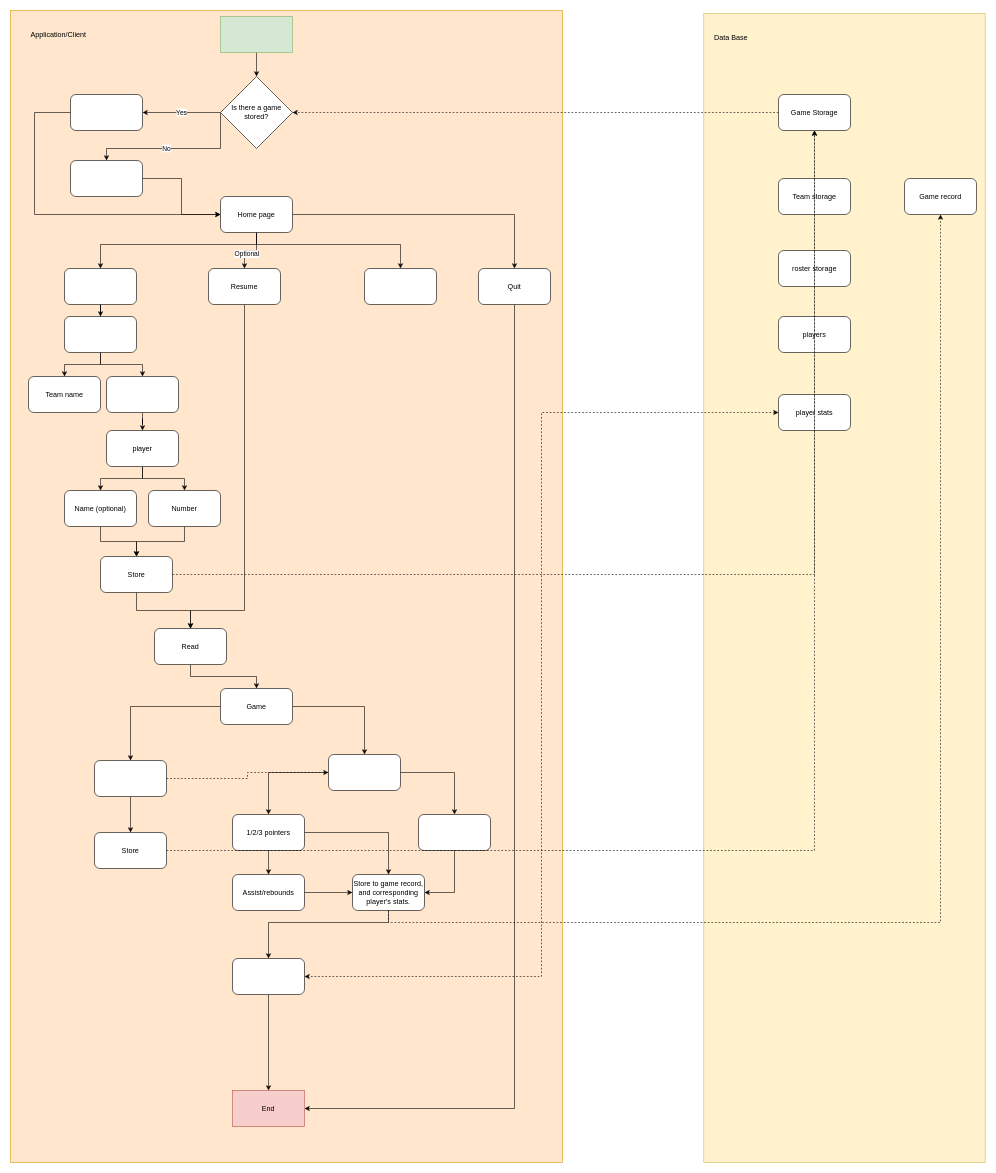
This 996x1173 diagram has some shape labels left out. The centre of each missing label's shape, as x and y in pixels:
Add events: [364,772]
Calculate stats: [268,976]
Create two teams: [100,334]
Edit on court players: [130,778]
fouls, turnovers, vialations: [454,832]
New Game: [100,286]
roster: [142,394]
Set resume botton opacity to 40% and cancel the hotspot link.: [106,178]
Settings: [400,286]
Show resume botton: [106,112]
Start: [256,34]
